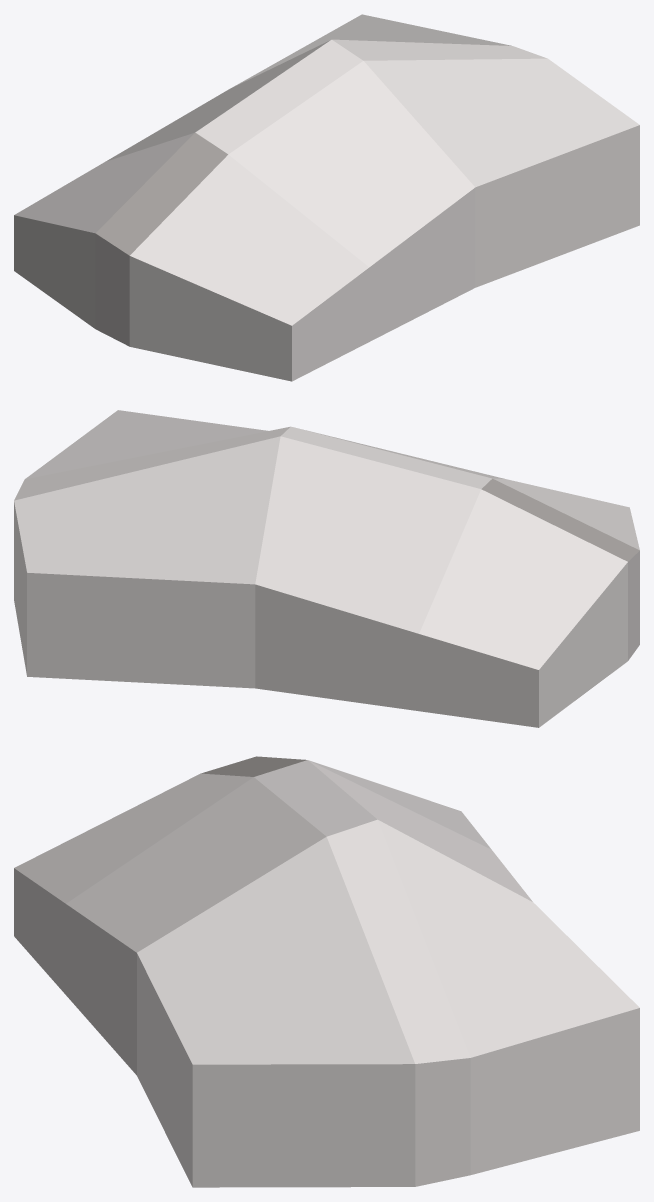
File: Office_Mouse.fbx
The picture shows the model from 3 angles, top to bottom: view 1: azimuth 30°, elevation 25°; view 2: azimuth 150°, elevation 25°; view 3: azimuth 270°, elevation 25°; orthographic projection. The views are drawn at different scales.
Visible parts, largest first — view 1: Office_Mouse; view 2: Office_Mouse; view 3: Office_Mouse.
Boxes of the visible parts, x1,y1,x2,y2 form: Office_Mouse: [14, 14, 639, 381]; Office_Mouse: [14, 410, 639, 727]; Office_Mouse: [14, 756, 639, 1187].
Bounding box in the file's own units: 19.01 × 6.56 × 16.25.
